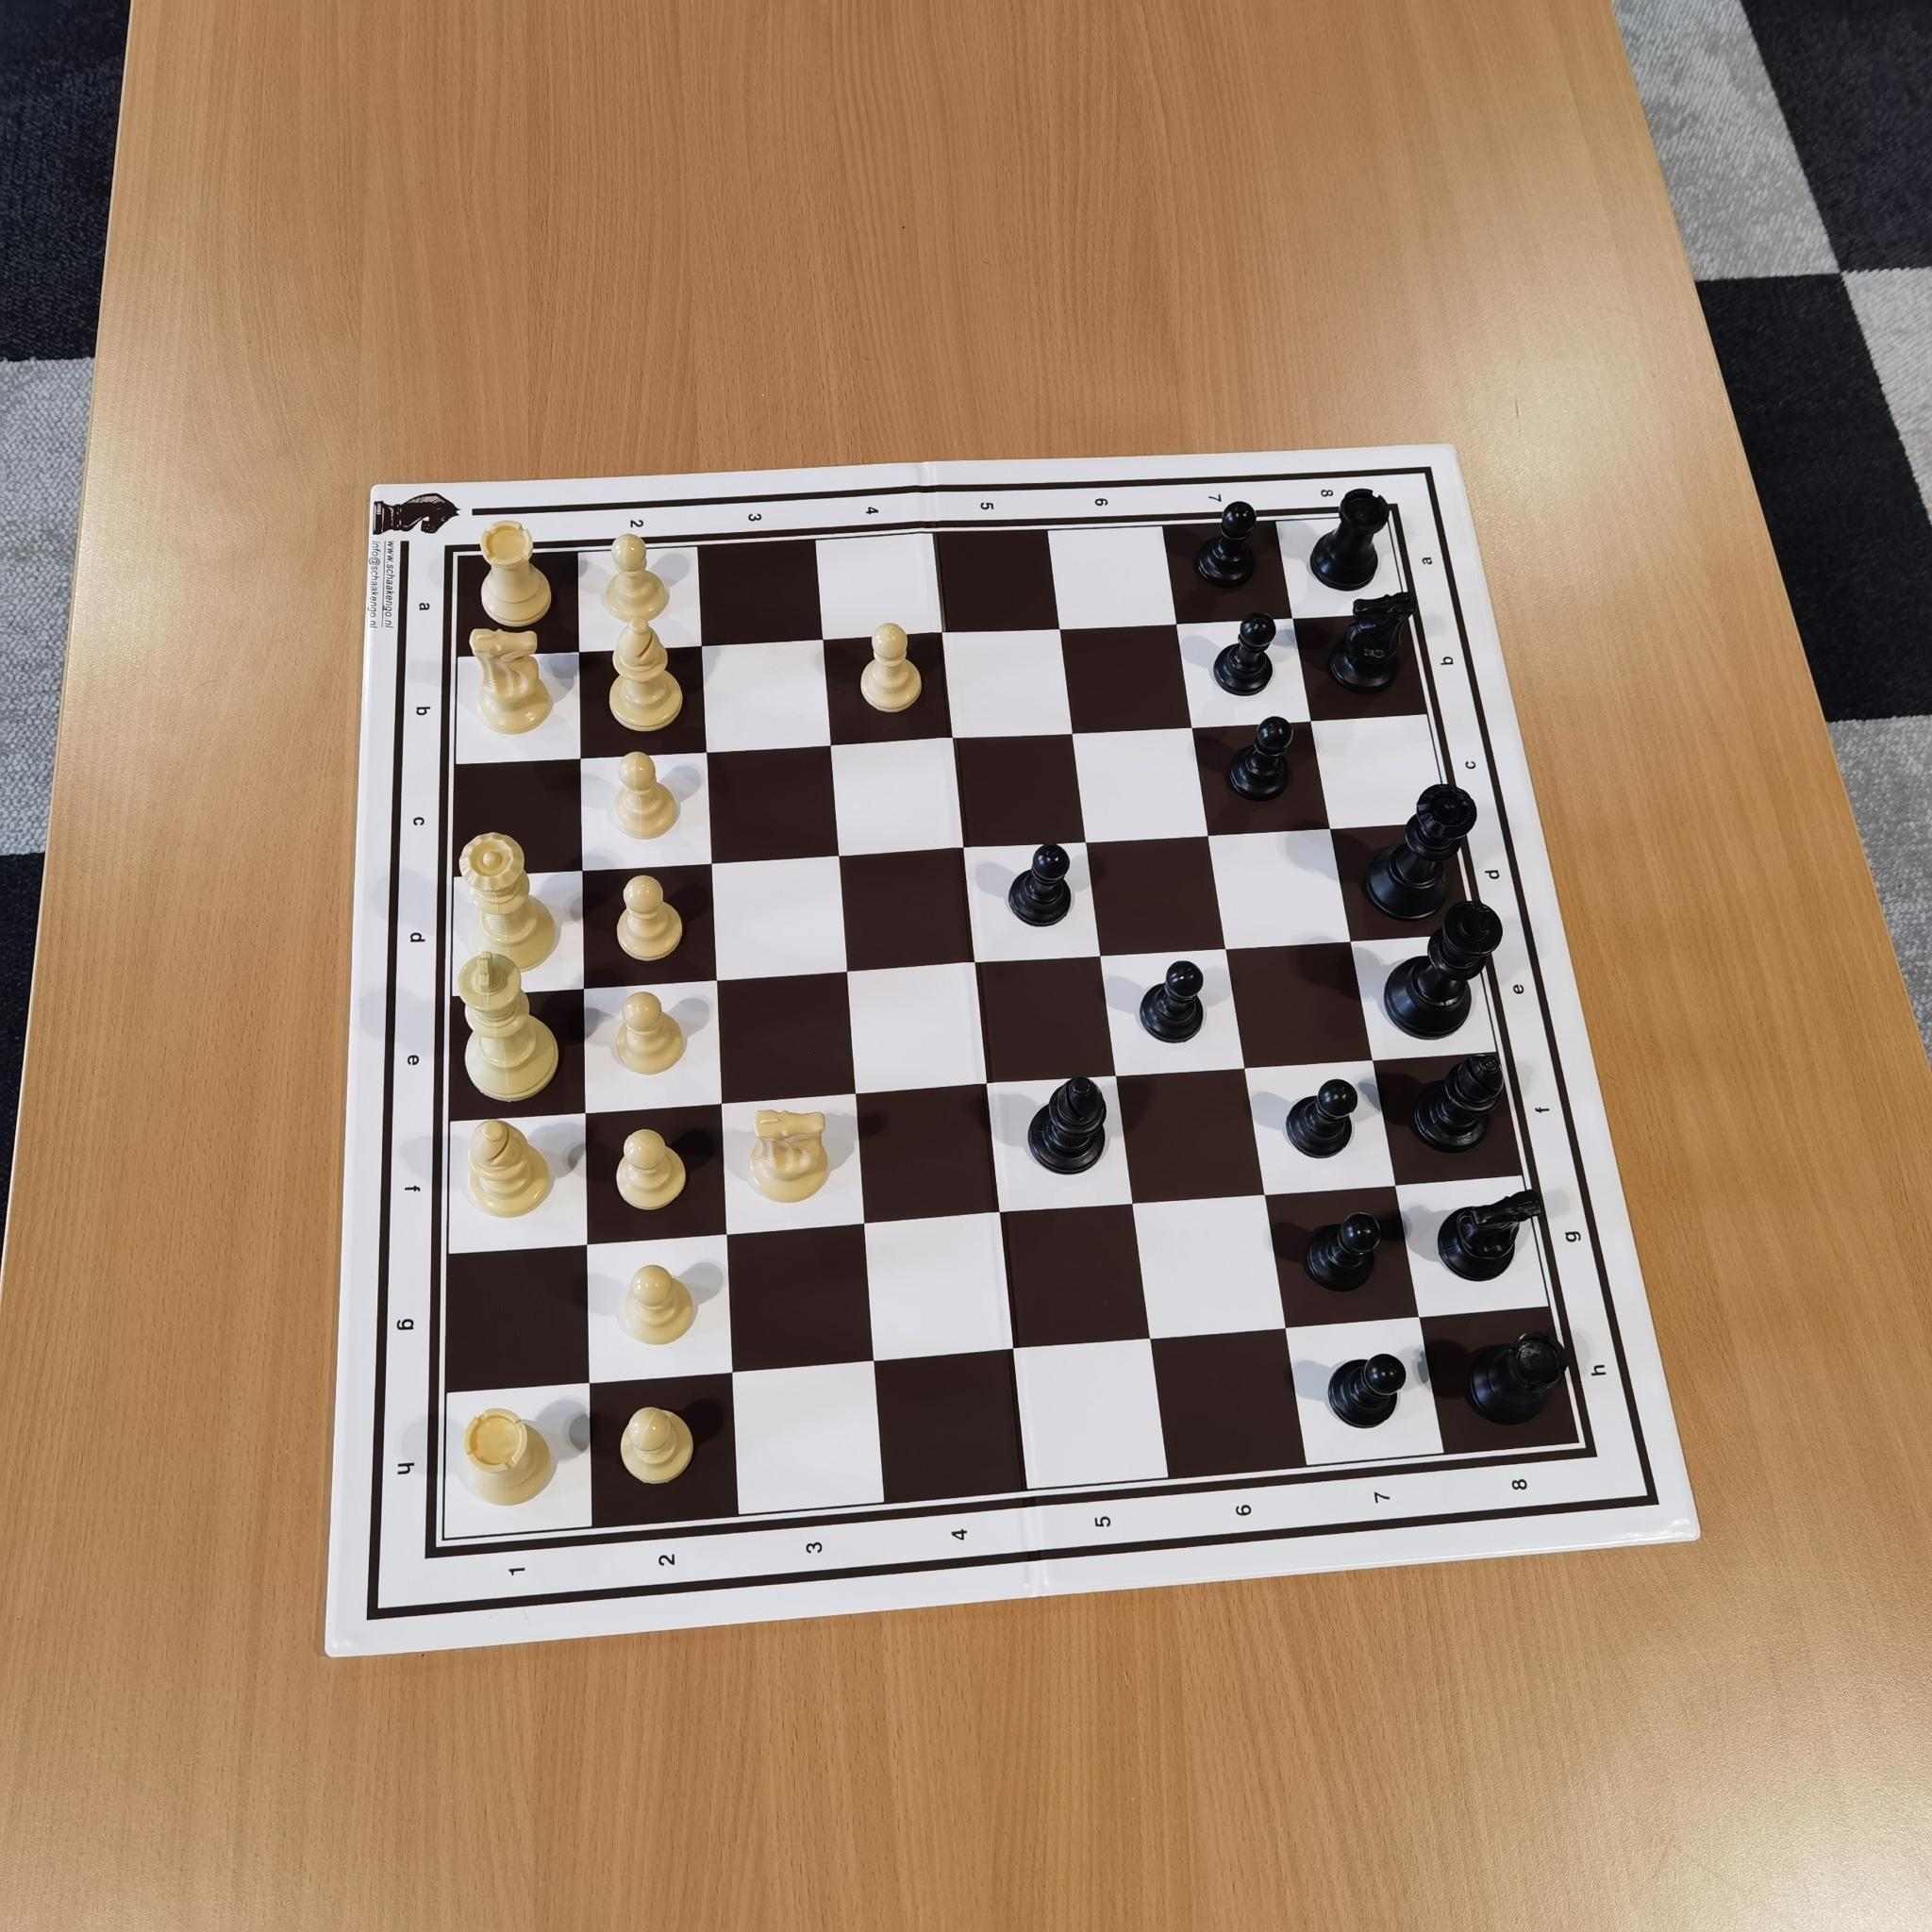corners: (409, 1520, 465, 1574), (1564, 1435, 1608, 1477), (432, 532, 478, 573), (1369, 491, 1410, 528)
eight: (1502, 1455, 1542, 1508), (1305, 479, 1345, 509)
one: (503, 1549, 540, 1591), (497, 515, 530, 546)
